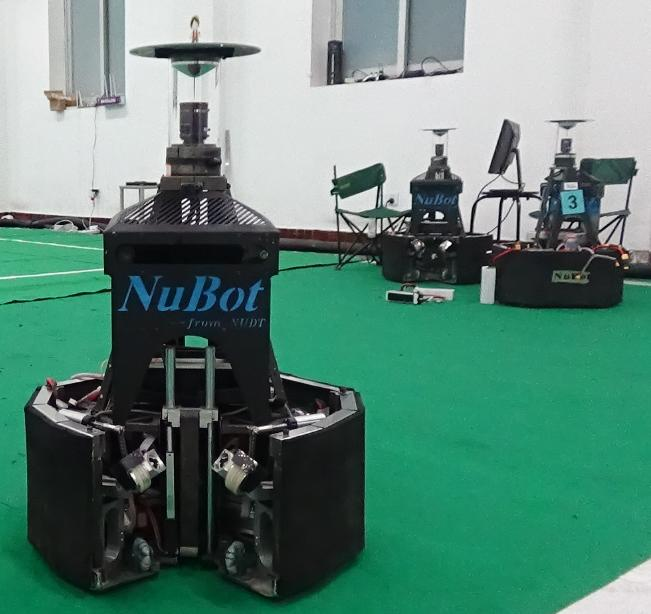robot: (18, 32, 368, 606), (497, 116, 625, 310), (374, 121, 495, 289)
